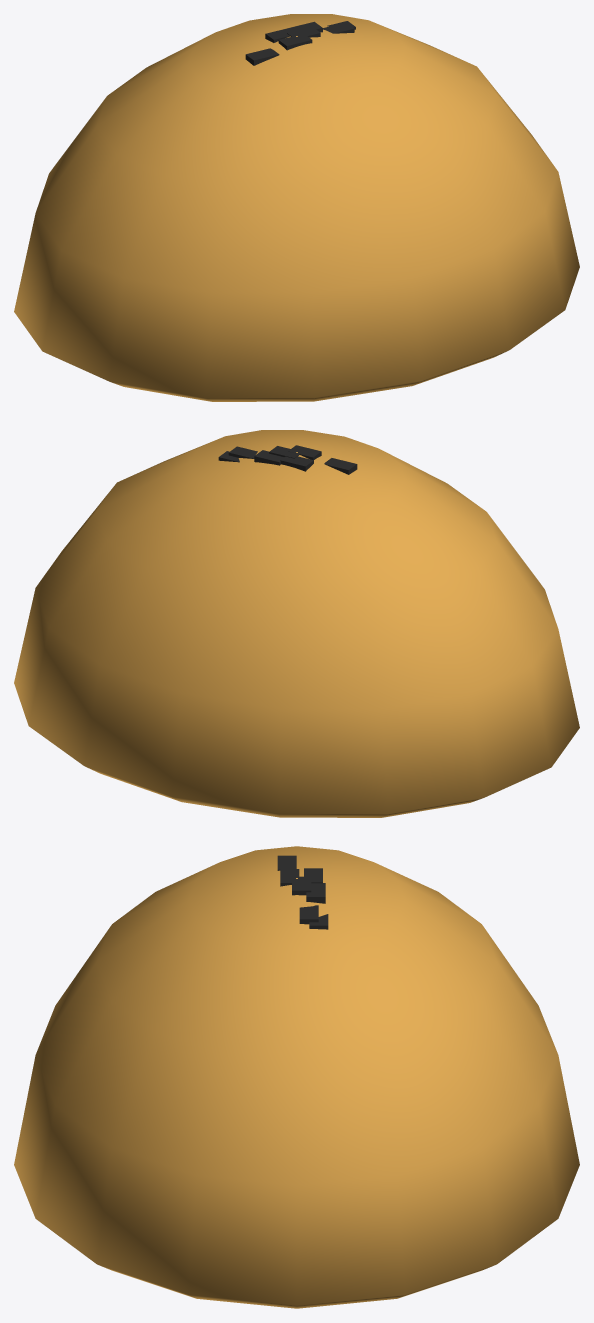
File: Pogaca_Model.fbx
3 views of the same model, one above another, from view 1: azimuth 30°, elevation 25°; view 2: azimuth 150°, elevation 25°; view 3: azimuth 270°, elevation 25° (orthographic). The views are drawn at different scales.
Visible parts, largest first — view 1: Pogaca_Model; view 2: Pogaca_Model; view 3: Pogaca_Model.
Part boxes in pixels (x1=…): Pogaca_Model: x1=14, y1=14, x2=579, y2=401; Pogaca_Model: x1=14, y1=430, x2=579, y2=817; Pogaca_Model: x1=14, y1=846, x2=579, y2=1308.
Bounding box in the file's own units: 28 × 14.98 × 23.8.
